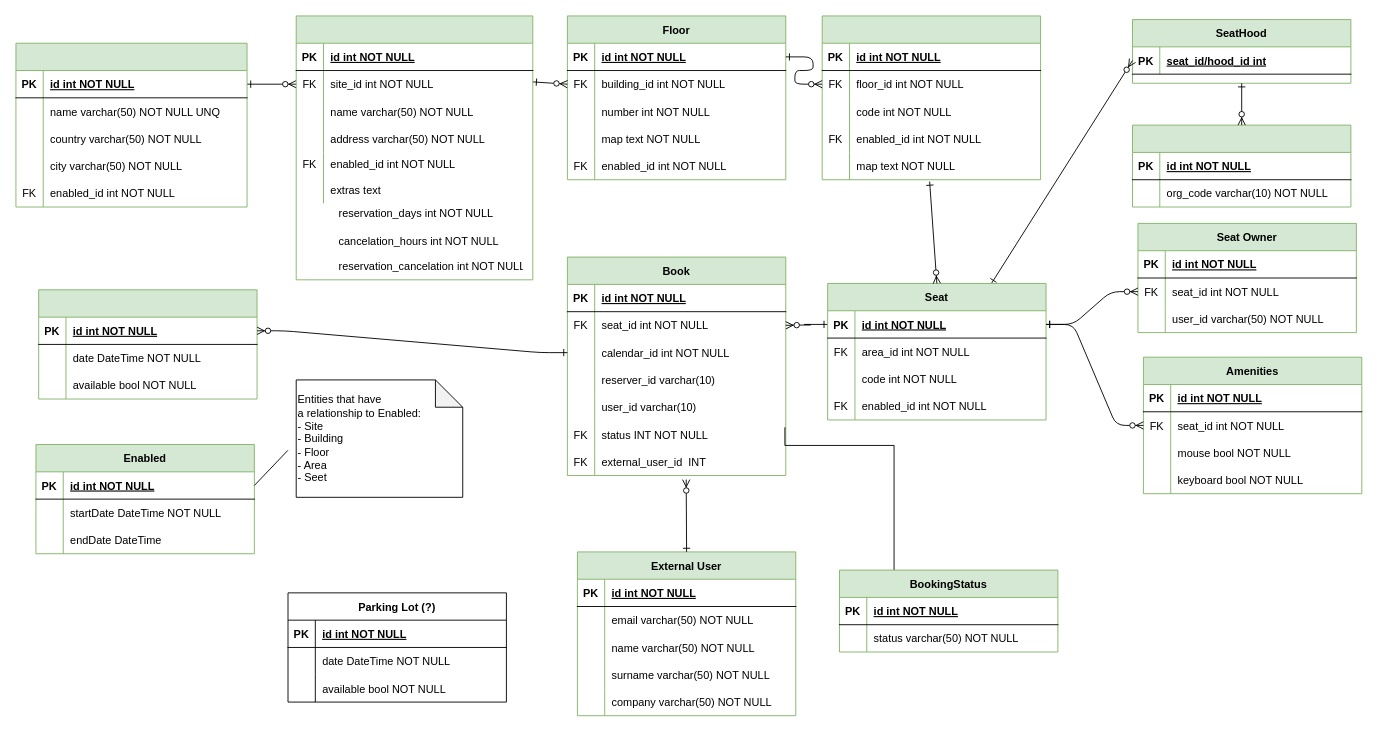
Some shapes in this 1378 by 732 pixel diagram are drawn without their labels. Here are the shapes that lost their labels. From the top down, the box of each, then its label:
(821, 15, 1041, 180): Area
(15, 42, 247, 207): Site
(295, 15, 533, 280): Building
(1132, 124, 1351, 207): Hood
(38, 289, 257, 399): Calendar
